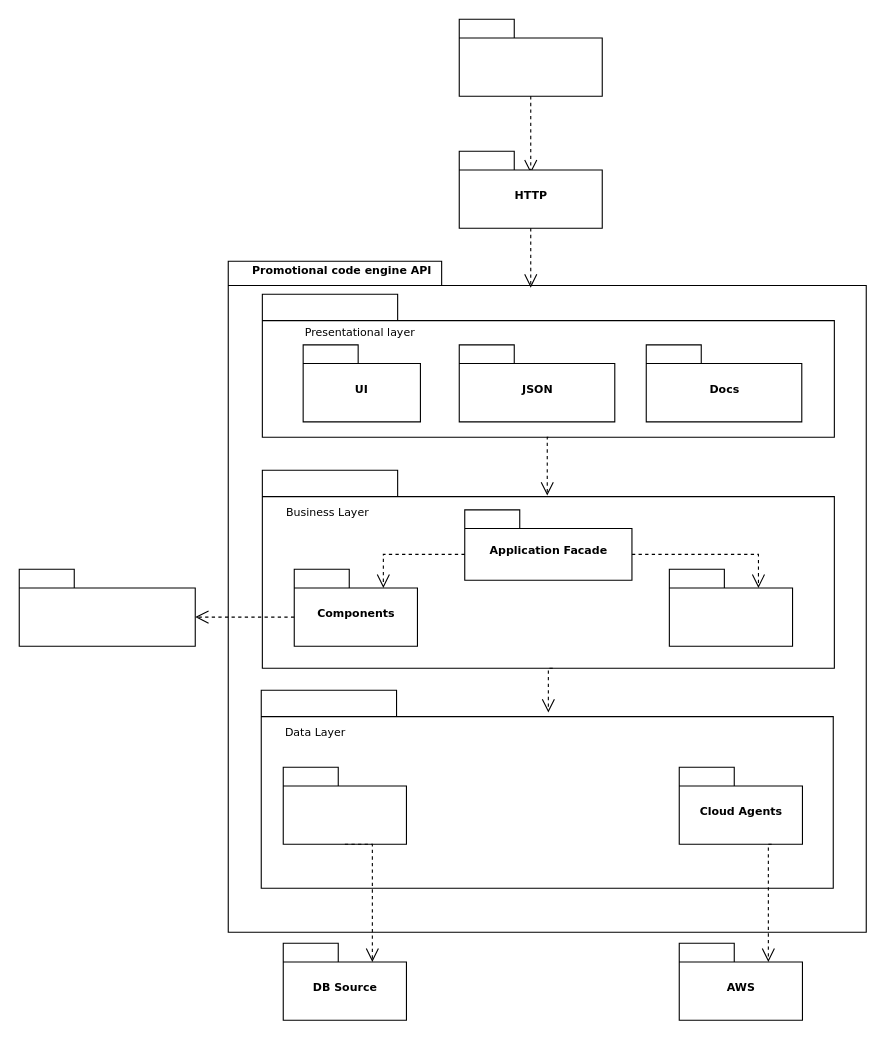
This 886x1040 diagram has some shape labels left out. The centre of each missing label's shape, as x and y in pixels:
"3rd party microservices" belongs at point (106, 607).
"Client" belongs at point (530, 57).
"DB Access" belongs at point (344, 805).
"Workflow" belongs at point (730, 607).
